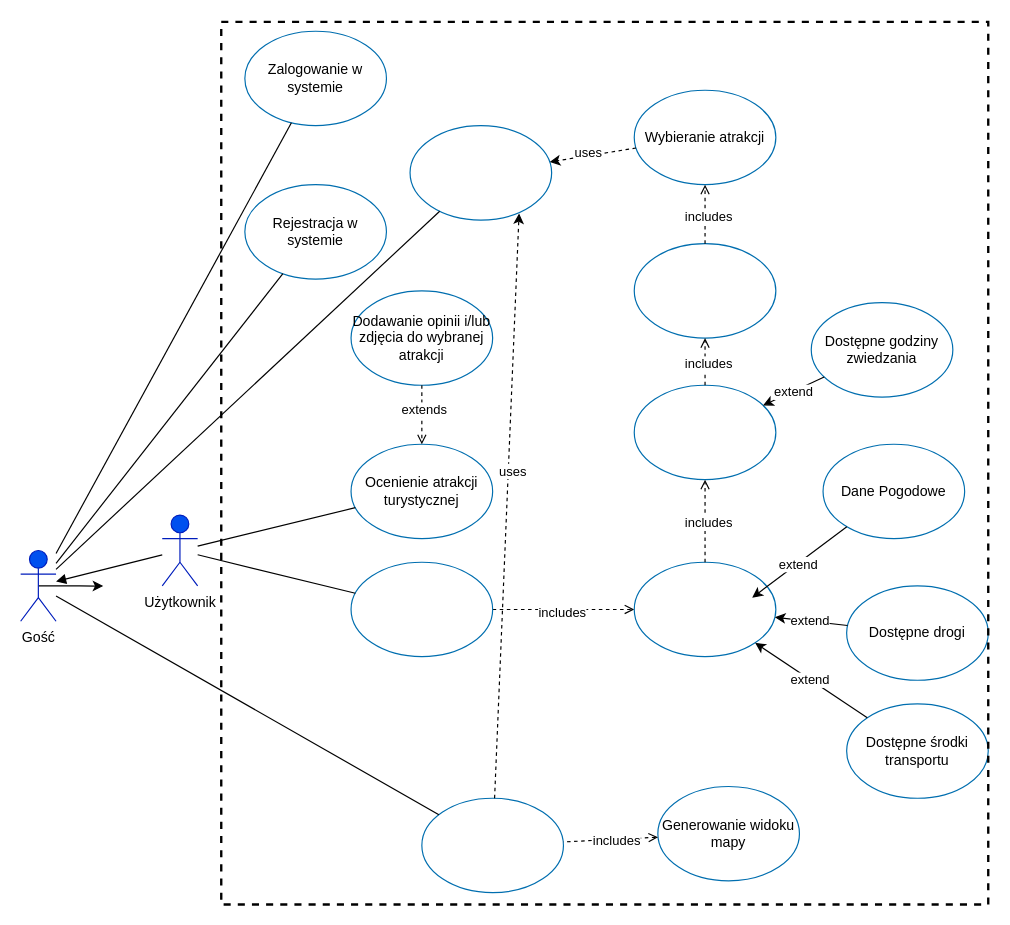
The diagram is 1010 pixels wide and 925 high, and some of its shapes have lost their labels. The centre of each missing label's shape, as x and y in pixels:
"Generowanie Trasy" goes at [704,609].
"Przeglądanie widoku mapy" goes at [492,845].
"Tworzenie planu zwiedzania" goes at [704,290].
"Ustalanie czasu zwiedzania" goes at [704,432].
"Wyświetlenie dostępnych atrakcji" goes at [480,172].
"Zapisanie planu zwiedzania" goes at [421,609].
